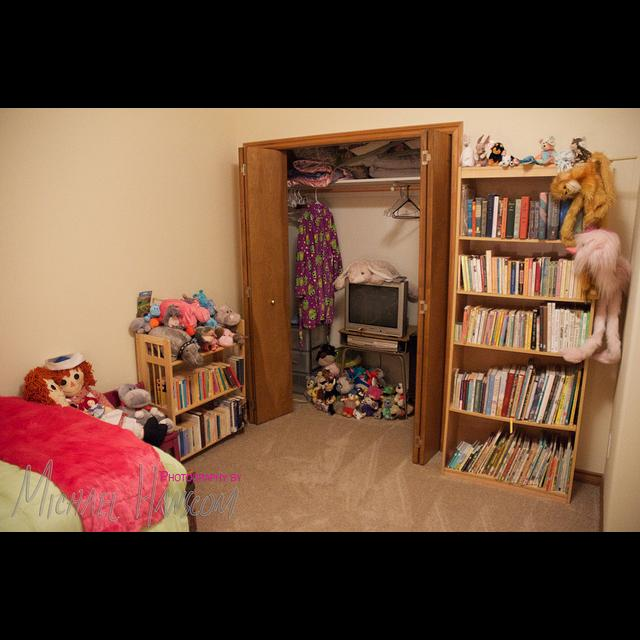Flat-Panel-TV: (344, 278, 408, 337)
